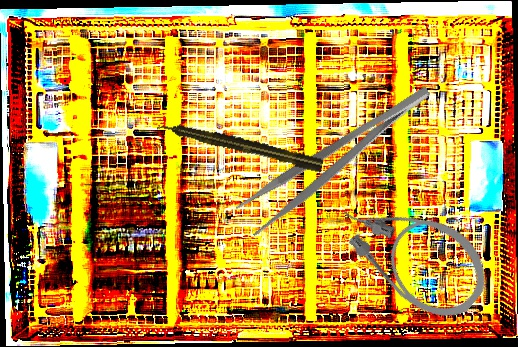Cannula: (324, 166, 503, 336)
Dressing Forceps: (232, 81, 445, 238)
Handpiece: (156, 117, 324, 174)
